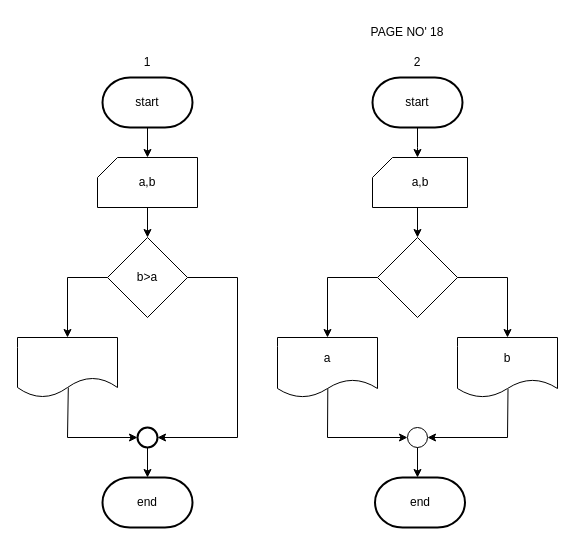
Image size: 575x545. Some labels were removed from this diagram. Each missing label, with the box of its shape:
"growing...": (16, 336, 118, 398)
a>b: (376, 236, 458, 318)
